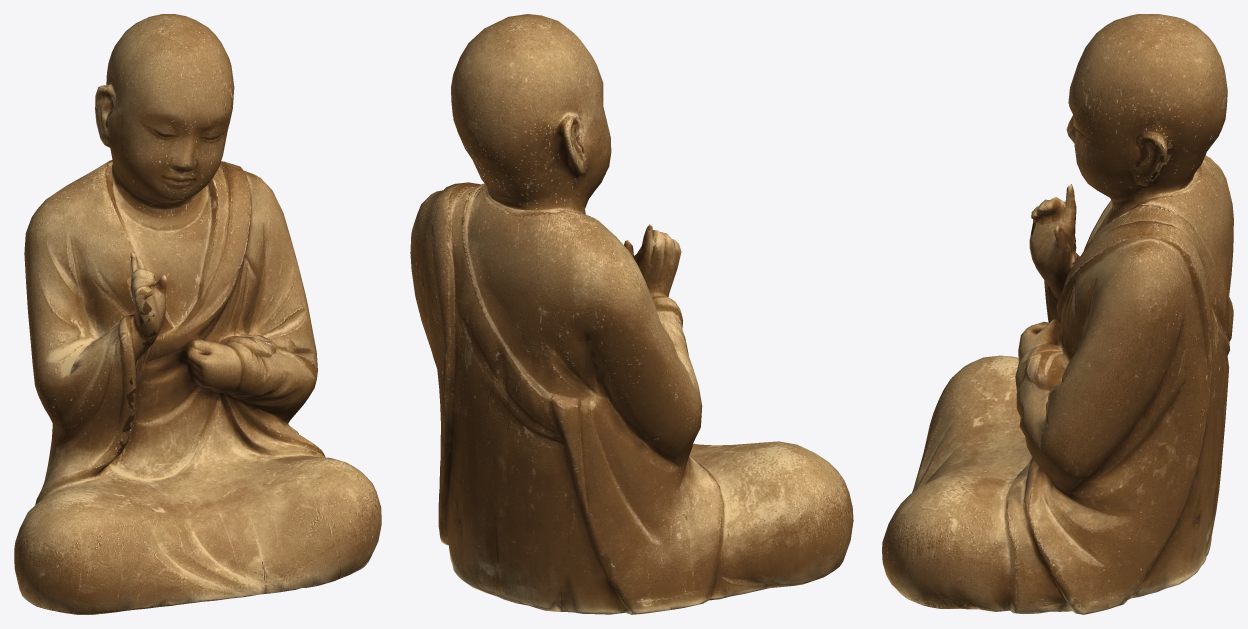
File: arhat-monk-black.glb
3 renders of one model, left to right at view 1: azimuth 30°, elevation 25°; view 2: azimuth 150°, elevation 25°; view 3: azimuth 270°, elevation 25°, orthographic. The views are drawn at different scales.
Visible parts, largest first — view 1: arhat-monk-black-low; view 2: arhat-monk-black-low; view 3: arhat-monk-black-low.
Boxes of the visible parts, left/top/right/bottom form: arhat-monk-black-low: left=14, top=14, right=381, bottom=614; arhat-monk-black-low: left=410, top=14, right=853, bottom=614; arhat-monk-black-low: left=882, top=14, right=1233, bottom=614.
Size of the model in its own units: 0.6972 by 0.9998 by 0.5896.
1 material, 1 textured.
